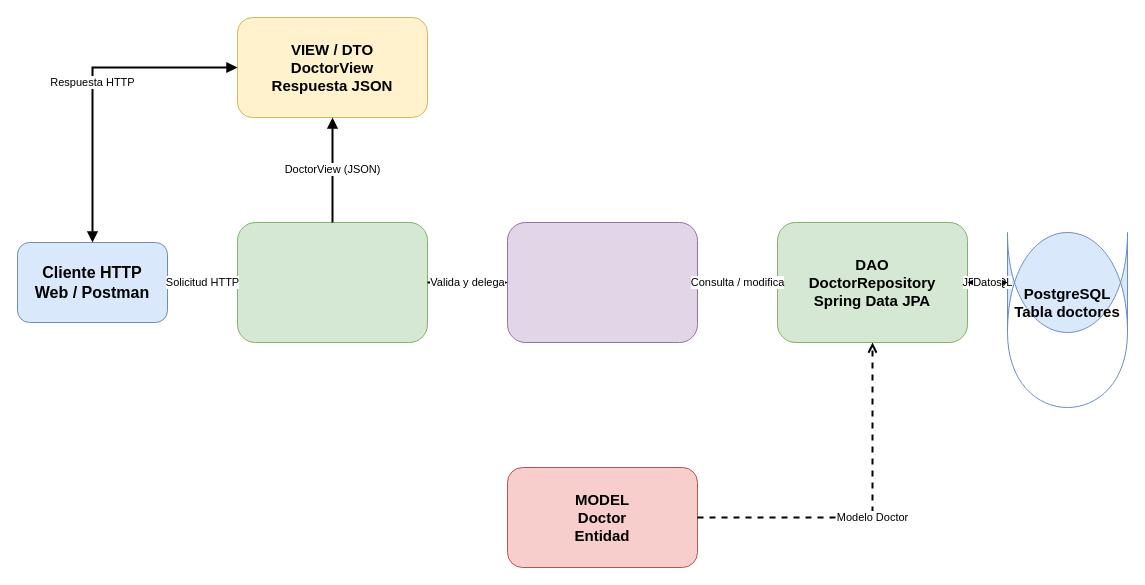
This 1145x585 diagram has some shape labels left out. Each missing label, with the centre of its shape:
"CONTROLLER DoctorController Rutas REST /api/doctores" goes at [332,282].
"SERVICE DoctorService Reglas del CRUD" goes at [602,282].
